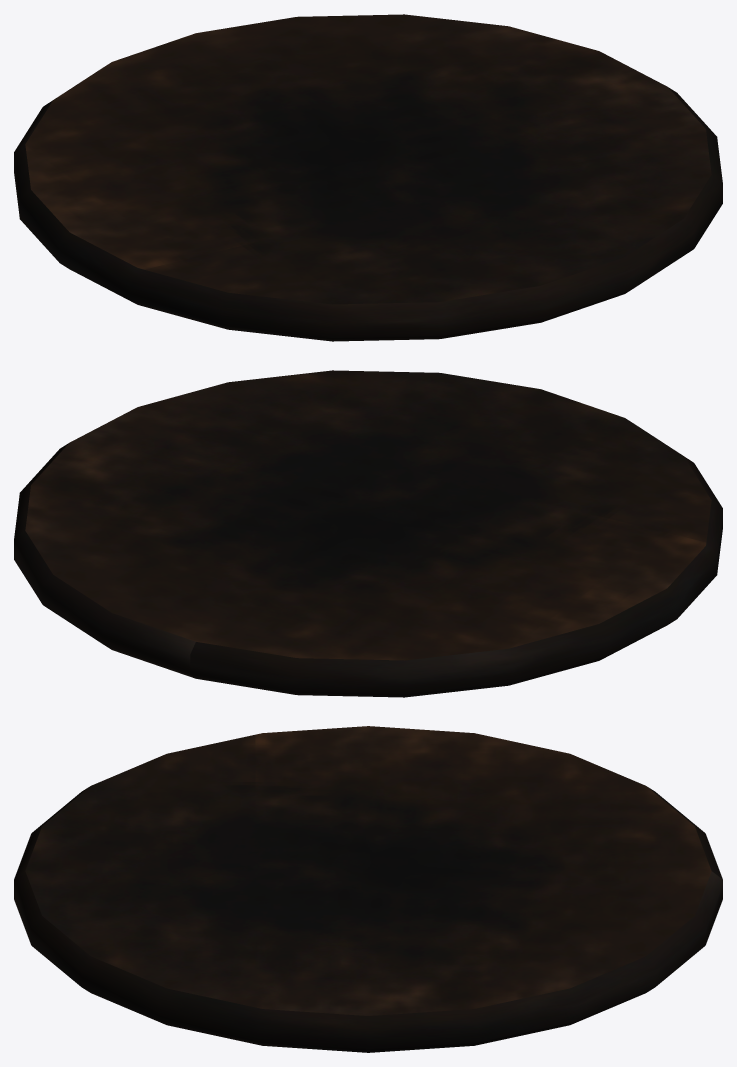
The model's file is meat_patty.fbx.
3 views of the same model, one above another, from view 1: azimuth 30°, elevation 25°; view 2: azimuth 150°, elevation 25°; view 3: azimuth 270°, elevation 25° (orthographic).
Visible parts, largest first — view 1: pCylinder1; view 2: pCylinder1; view 3: pCylinder1.
Part boxes in pixels (box(x1,y1,x2,y2)): pCylinder1: box(14, 14, 722, 341); pCylinder1: box(14, 370, 722, 697); pCylinder1: box(14, 726, 722, 1052).
Bounding box in the file's own units: 9.53 × 0.5461 × 9.53.
